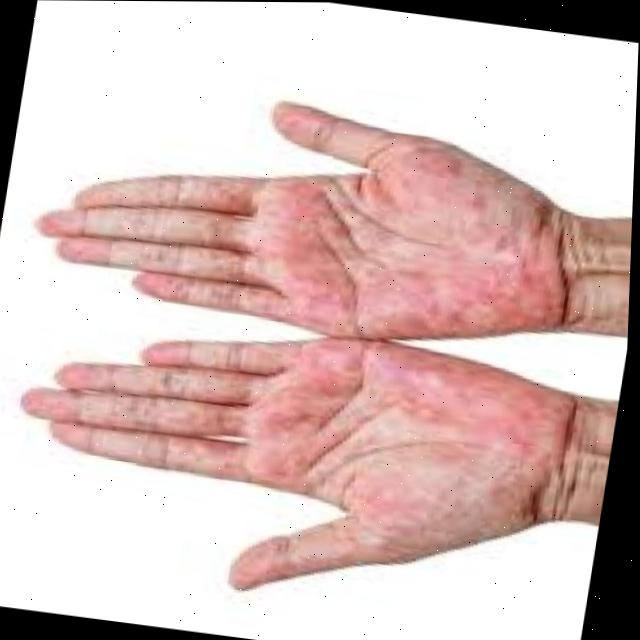Eczema: (12, 311, 569, 625), (40, 102, 569, 348)
